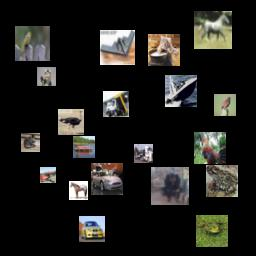airplane: (100, 30, 135, 65), (40, 167, 56, 183)
automobile: (91, 163, 123, 195), (79, 216, 105, 242)
bird: (15, 26, 50, 61), (194, 132, 226, 164), (58, 109, 84, 135), (214, 94, 236, 116)
cat: (148, 34, 180, 66), (21, 133, 40, 152), (37, 67, 56, 86)
dog: (151, 167, 189, 205)
frog: (196, 215, 228, 247), (206, 165, 238, 197)
ship: (165, 75, 197, 107), (73, 136, 95, 158)
truck: (103, 91, 129, 117), (134, 144, 153, 163)
